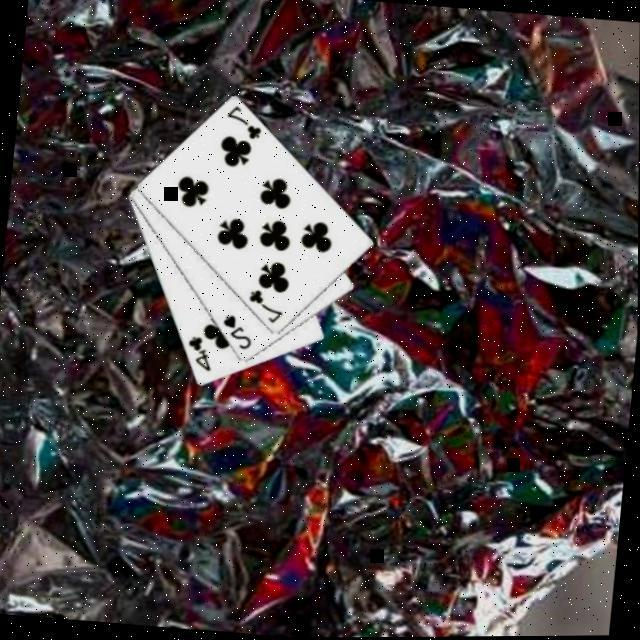2S: (218, 312, 257, 355)
4C: (183, 334, 217, 377)
7C: (222, 103, 267, 145), (244, 288, 287, 329)
